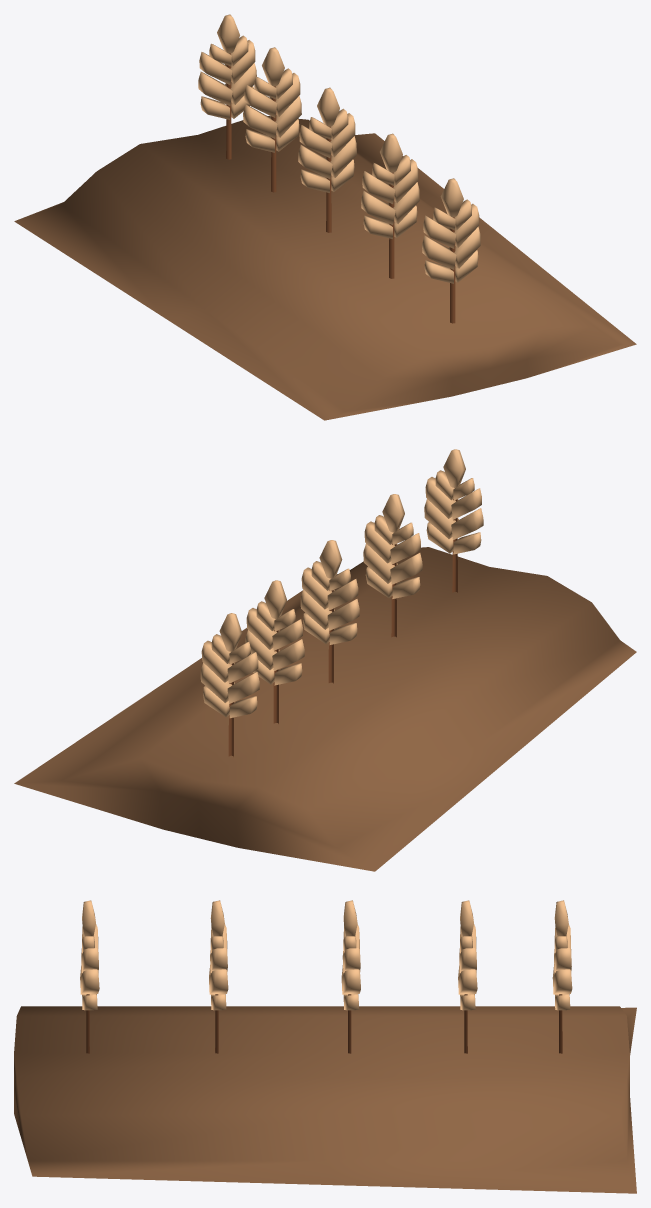
File: Plantacao.fbx
The picture shows the model from 3 angles, top to bottom: view 1: azimuth 30°, elevation 25°; view 2: azimuth 150°, elevation 25°; view 3: azimuth 270°, elevation 25°; orthographic projection. The views are drawn at different scales.
Visible parts, largest first — view 1: Cube; view 2: Cube; view 3: Cube.
Part boxes in pixels (x1,y1,x2,y2): Cube: (14,14,636,420); Cube: (14,449,636,871); Cube: (14,900,636,1193).
Size of the model in its own units: 1109 by 598 by 1569.
